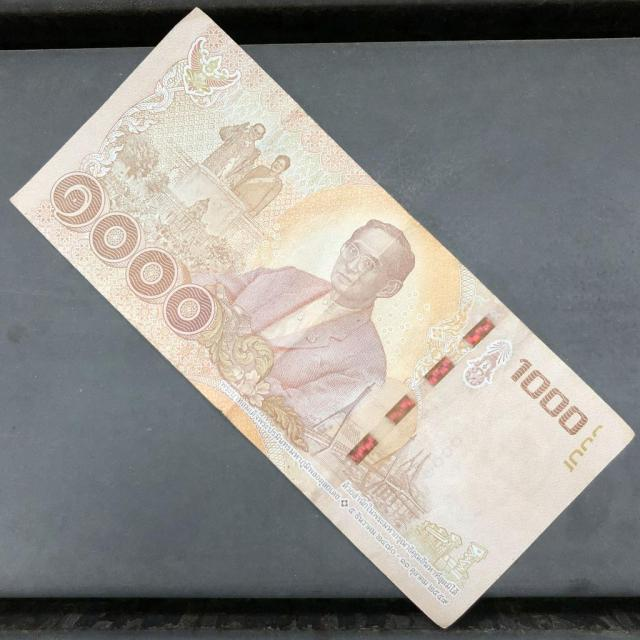THAI1000: (9, 9, 636, 630)
